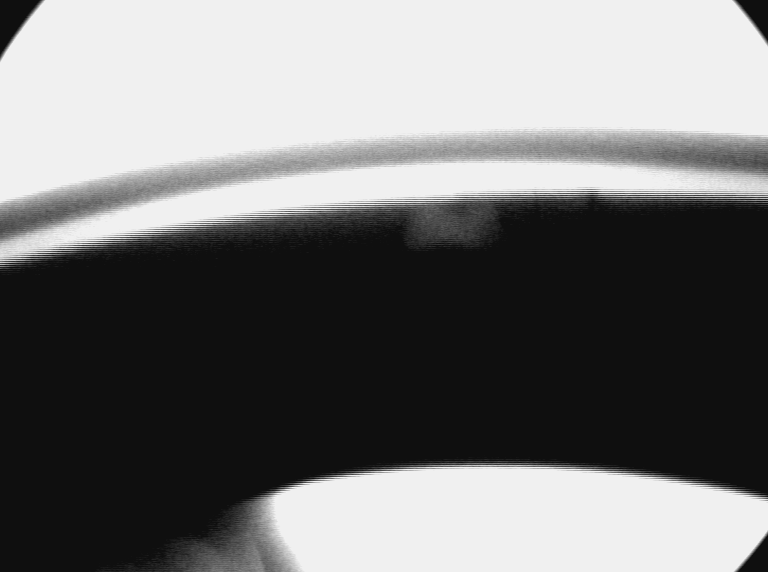defect: (401, 201, 506, 256)
